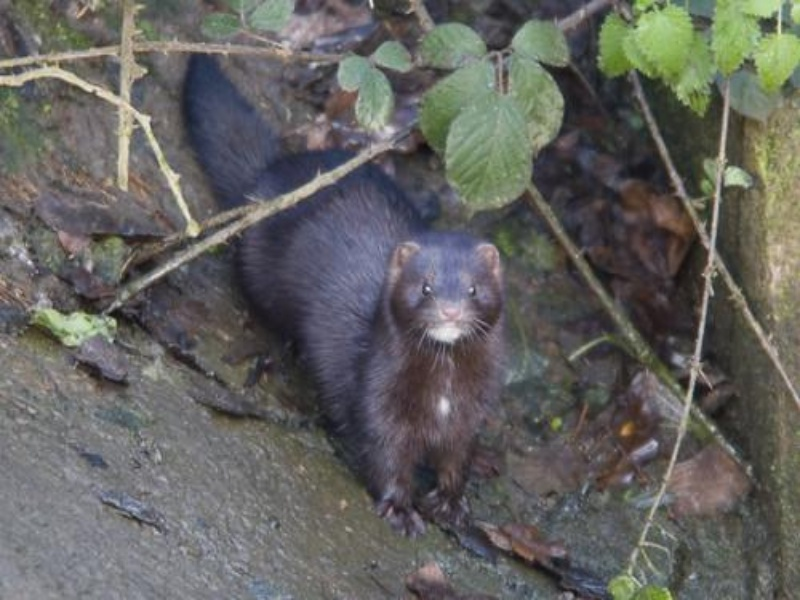minkish: (180, 41, 510, 538)
